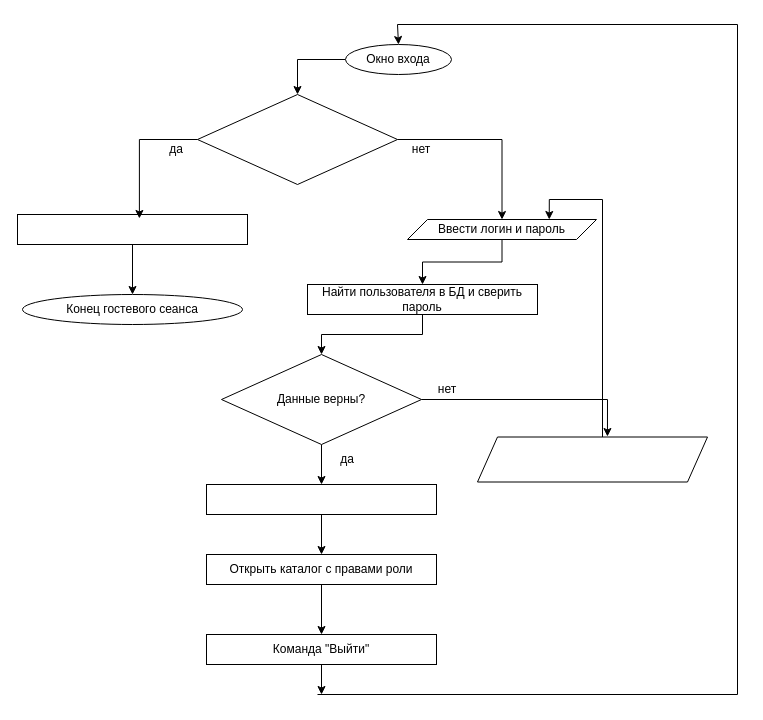
This 763x720 diagram has some shape labels left out. The box of each missing label's shape, as (x1, y1, x2, y2) in pixels:
Нажата кнопка "Гость"?: (196, 94, 398, 184)
Определить роль и ФИО: (206, 484, 436, 514)
Открыть каталог в режиме гостя: (16, 214, 248, 244)
Сообщение: неверный логин или пароль: (476, 436, 708, 482)
